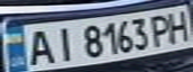1: (100, 19, 121, 56)
3: (130, 16, 151, 51)
6: (115, 17, 136, 53)
8: (78, 21, 103, 59)
A: (21, 26, 57, 66)
H: (163, 7, 193, 43)
I: (48, 25, 78, 63)
P: (148, 11, 175, 47)
